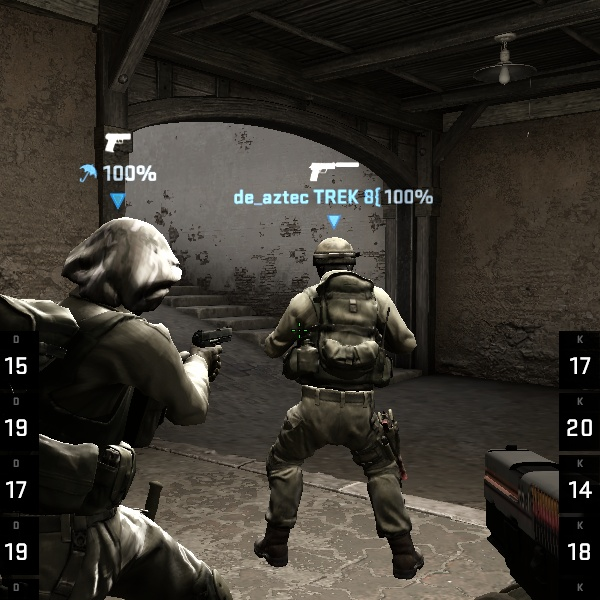ct_body: (251, 228, 445, 574)
ct_head: (304, 233, 366, 292)
